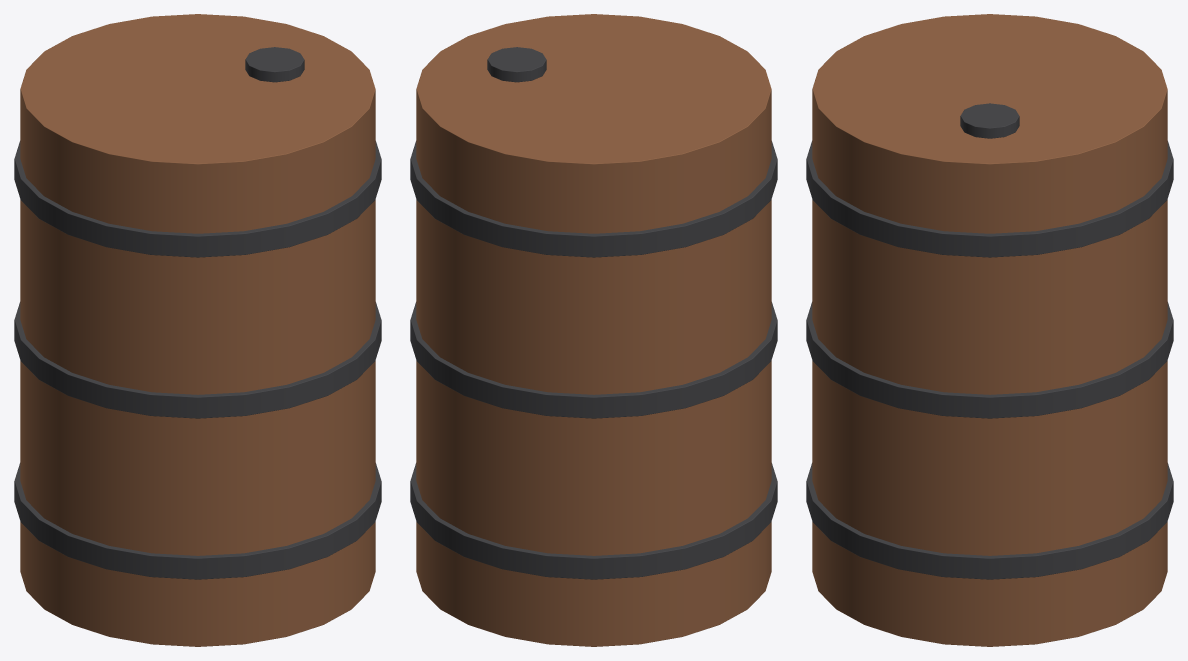
Rendered from barrel_1.glb.
3 renders of one model, left to right at view 1: azimuth 30°, elevation 25°; view 2: azimuth 150°, elevation 25°; view 3: azimuth 270°, elevation 25°, orthographic.
Visible parts, largest first — view 1: Barrel, Hoop, Hoop.001, Hoop.002, Cap; view 2: Barrel, Hoop, Hoop.001, Hoop.002, Cap; view 3: Barrel, Hoop, Hoop.001, Hoop.002, Cap.
Boxes of the visible parts, <box> form: Barrel: <box>20,14,375,646</box>; Hoop: <box>14,463,381,579</box>; Hoop.001: <box>14,302,381,418</box>; Hoop.002: <box>14,141,381,257</box>; Cap: <box>245,47,304,82</box>; Barrel: <box>416,14,771,646</box>; Hoop: <box>410,463,777,579</box>; Hoop.001: <box>410,302,777,418</box>; Hoop.002: <box>410,141,777,257</box>; Cap: <box>487,47,546,82</box>; Barrel: <box>812,14,1167,646</box>; Hoop: <box>806,463,1173,579</box>; Hoop.001: <box>806,302,1173,418</box>; Hoop.002: <box>806,141,1173,257</box>; Cap: <box>960,103,1019,138</box>.
Bounding box in the file's own units: 0.62 × 0.92 × 0.62.
